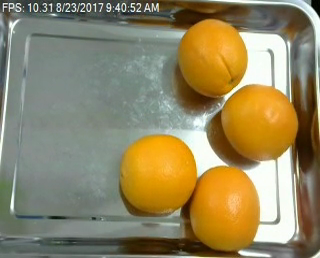Orange: (119, 135, 196, 215), (188, 166, 259, 252), (220, 83, 297, 162), (178, 18, 248, 98)
